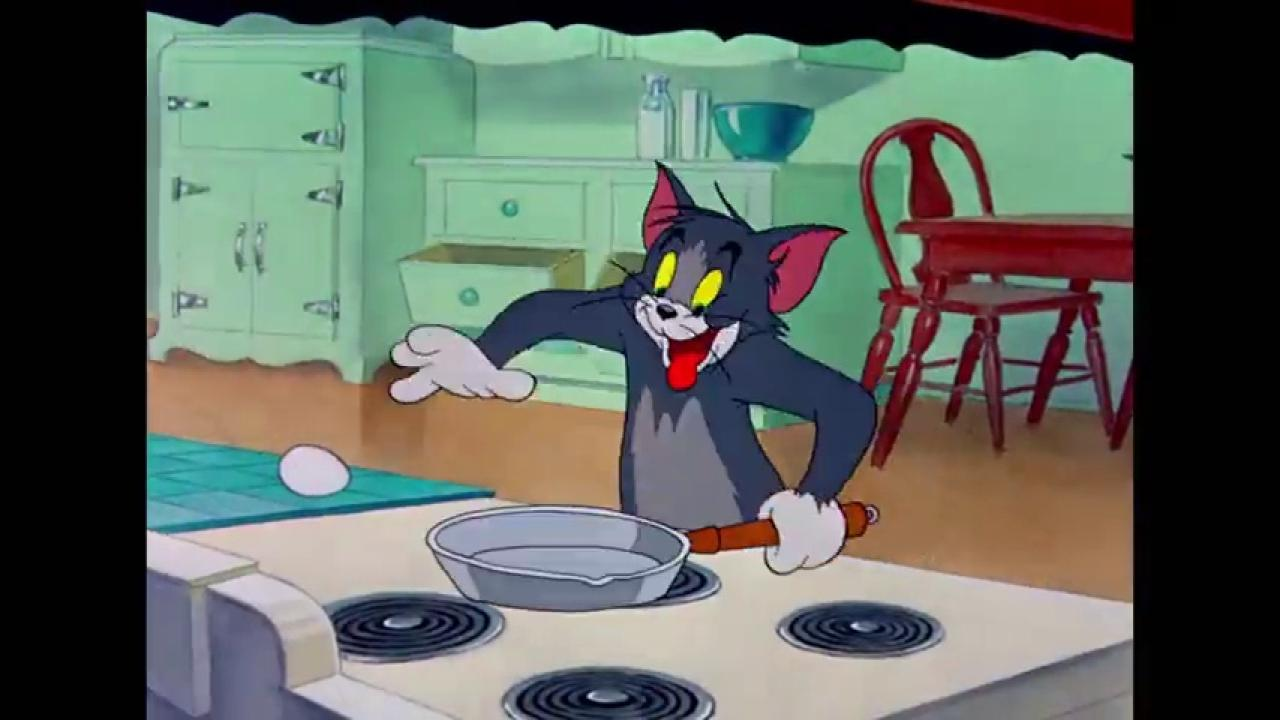Tom: (385, 155, 879, 576)
